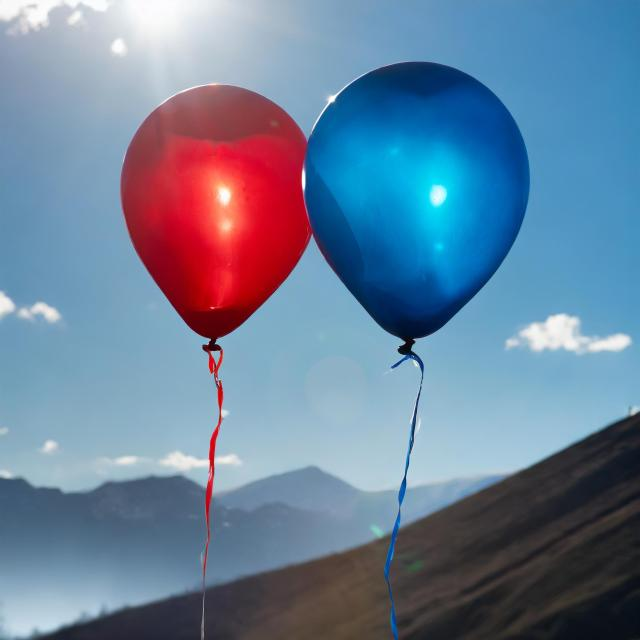blue: (304, 61, 530, 352)
red: (124, 86, 319, 351)
